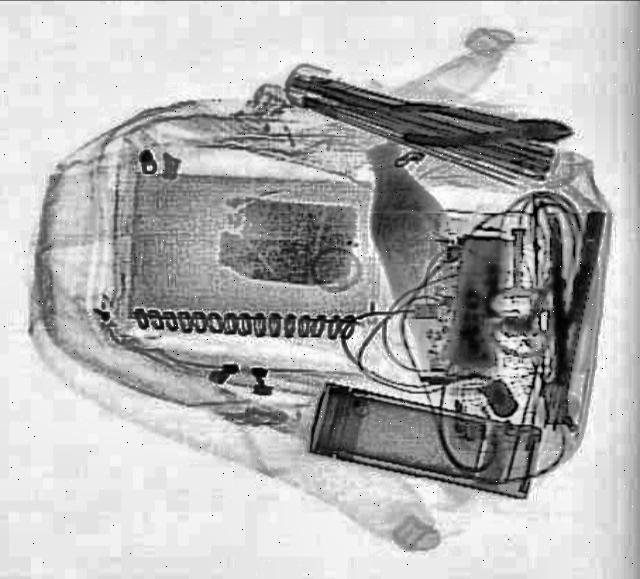Pliers: (390, 103, 576, 155)
